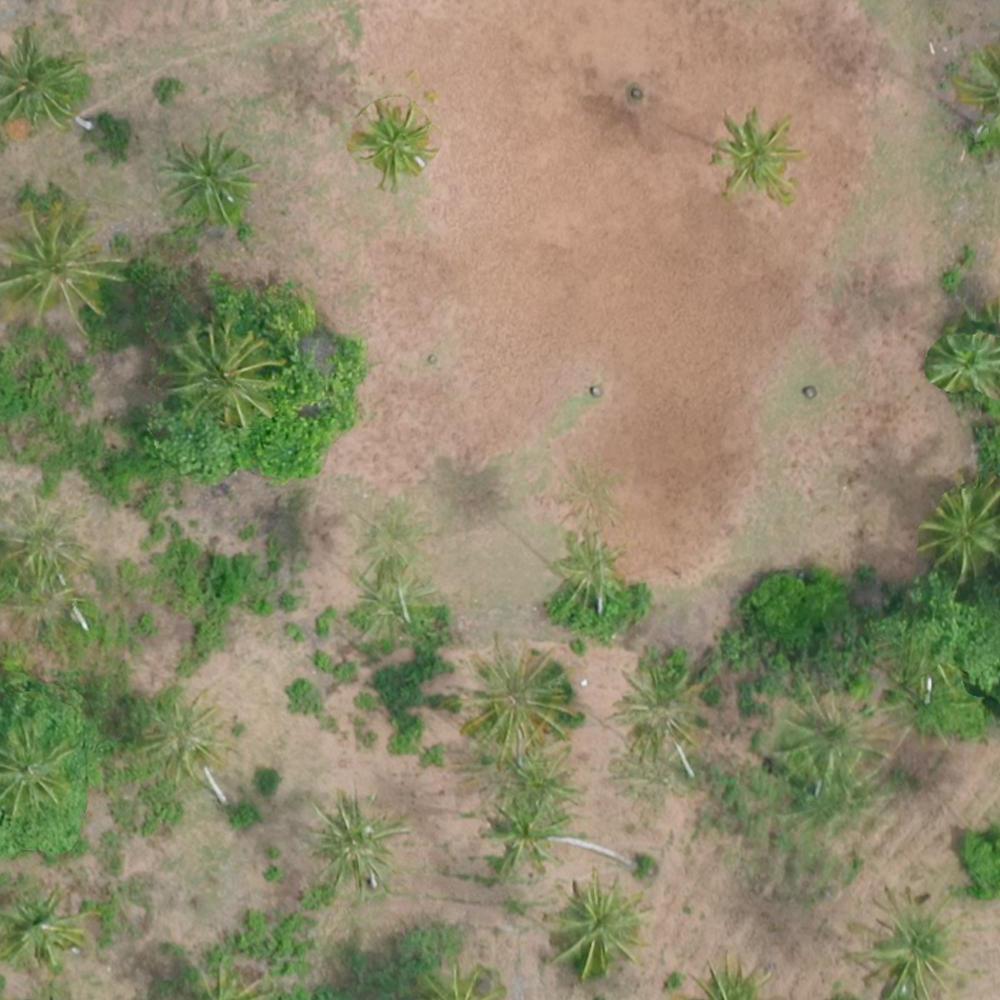Palm: (5, 199, 116, 327), (457, 644, 570, 751), (166, 324, 272, 428), (866, 892, 965, 993), (550, 880, 644, 974), (4, 30, 90, 127), (309, 795, 397, 882), (712, 110, 796, 197), (164, 139, 248, 224), (1, 885, 85, 969), (1, 722, 70, 824), (131, 698, 216, 779), (922, 488, 999, 574), (482, 795, 564, 875), (353, 101, 435, 177), (930, 333, 1000, 396)
